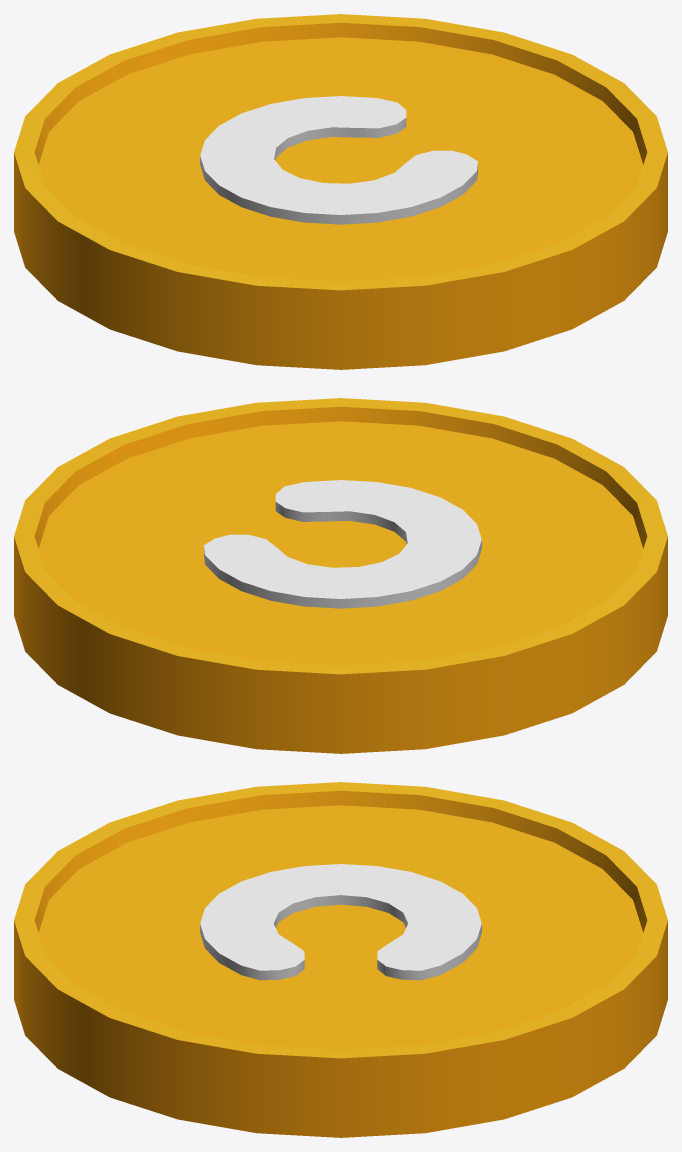
File: GamecenterCoin.FBX
The picture shows the model from 3 angles, top to bottom: view 1: azimuth 30°, elevation 25°; view 2: azimuth 150°, elevation 25°; view 3: azimuth 270°, elevation 25°; orthographic projection.
Parts seen in each view (by area): view 1: GamecenterCoin; view 2: GamecenterCoin; view 3: GamecenterCoin.
Boxes of the visible parts, <box> form: GamecenterCoin: <box>14,14,667,369</box>; GamecenterCoin: <box>14,398,667,753</box>; GamecenterCoin: <box>14,782,667,1137</box>.
Bounding box in the file's own units: 14.6 × 1.96 × 14.6.
1 material, 1 textured.
